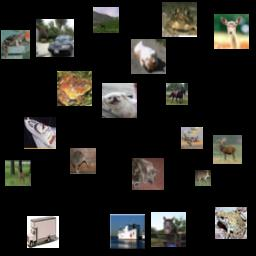airplane: (181, 127, 203, 149)
automobile: (36, 19, 74, 57)
bird: (70, 148, 96, 174)
cat: (131, 39, 166, 74), (132, 158, 164, 190), (1, 30, 30, 59)
deer: (214, 14, 249, 49), (213, 135, 242, 164), (5, 160, 31, 186), (93, 7, 119, 33), (195, 170, 211, 186)
dog: (102, 83, 137, 118)
frog: (57, 71, 92, 106), (162, 2, 197, 37), (215, 207, 247, 239)
ship: (110, 214, 145, 249), (24, 117, 56, 149)
truck: (27, 216, 59, 248)
